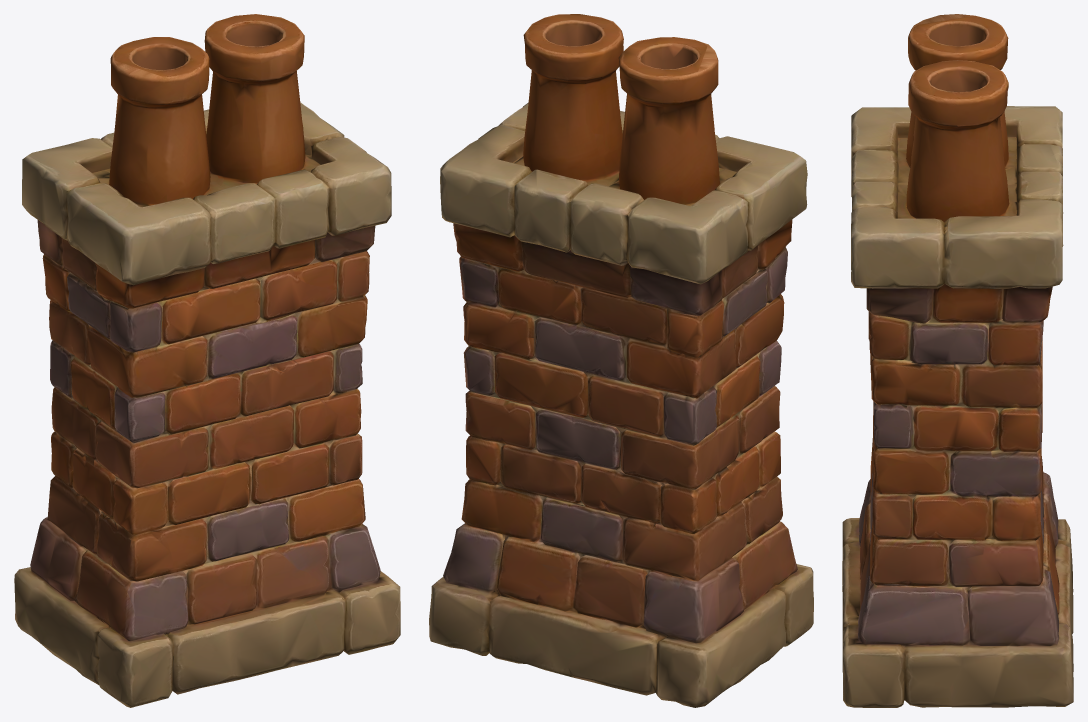
The model's file is mod_chimney_b.glb.
3 renders of one model, left to right at view 1: azimuth 30°, elevation 25°; view 2: azimuth 150°, elevation 25°; view 3: azimuth 270°, elevation 25°, orthographic.
Parts seen in each view (by area): view 1: tripo_node_8b5e2bf8-5197-4361-8f5f-975cccebc332; view 2: tripo_node_8b5e2bf8-5197-4361-8f5f-975cccebc332; view 3: tripo_node_8b5e2bf8-5197-4361-8f5f-975cccebc332.
Boxes of the visible parts, x1,y1,x2,y2 form: tripo_node_8b5e2bf8-5197-4361-8f5f-975cccebc332: (14,14,400,707); tripo_node_8b5e2bf8-5197-4361-8f5f-975cccebc332: (429,14,813,707); tripo_node_8b5e2bf8-5197-4361-8f5f-975cccebc332: (842,14,1073,707).
Size of the model in its own units: 0.4796 by 0.9795 by 0.3499.
1 material, 1 textured.
